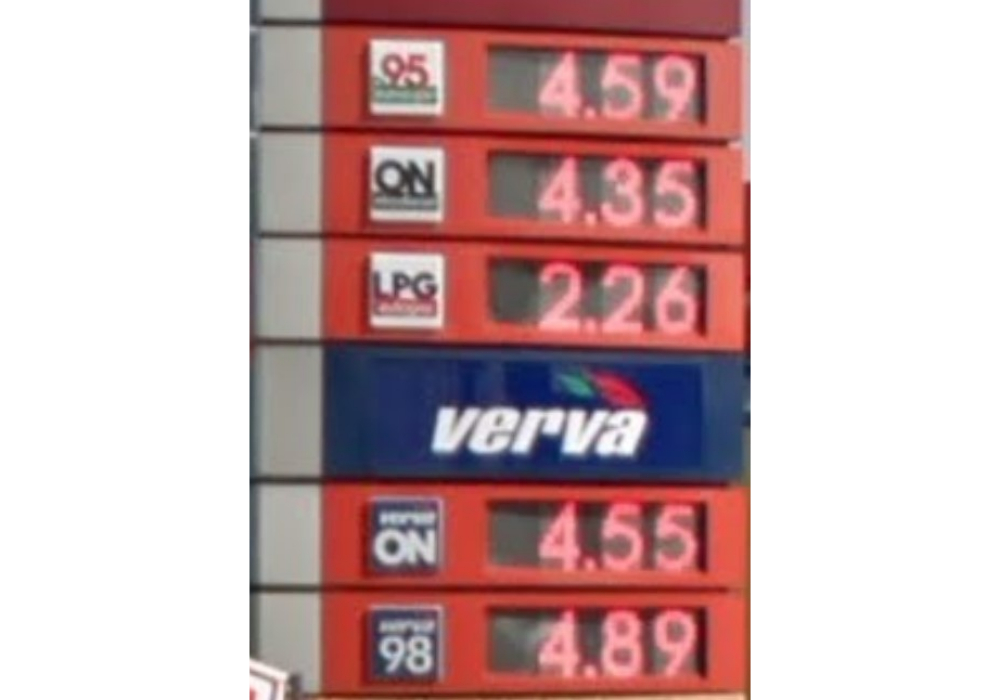LPG: (365, 249, 449, 331)
ON: (368, 143, 445, 225), (368, 495, 444, 575)
PB95: (362, 37, 445, 116)
PB98: (367, 601, 443, 683)
